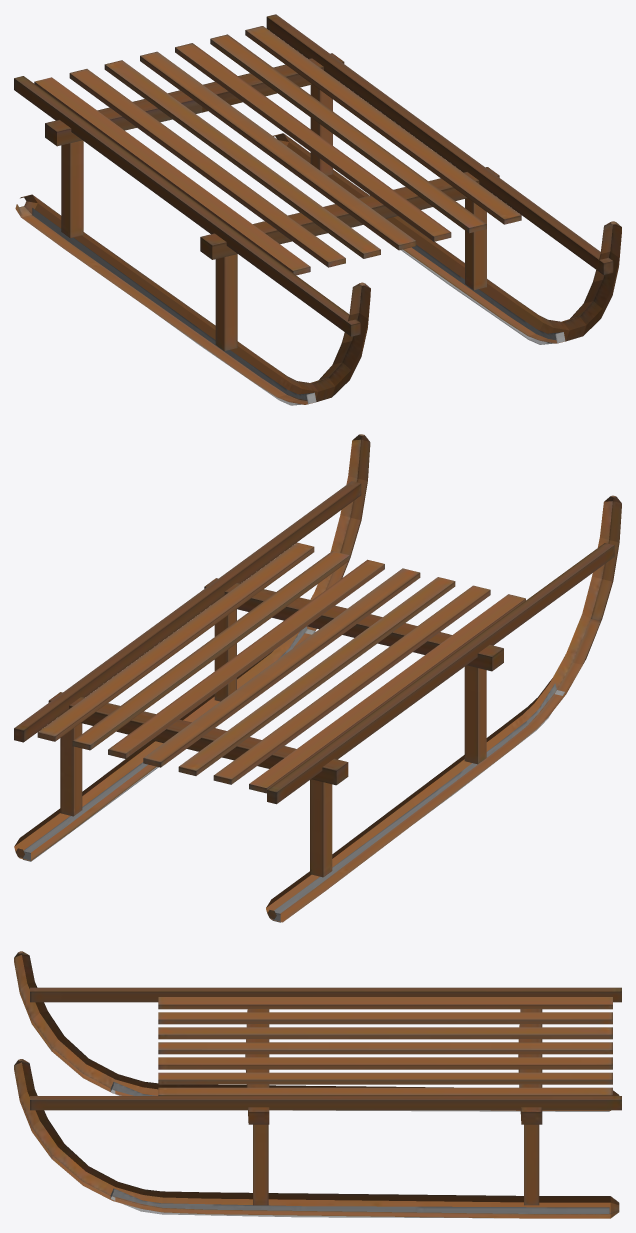
Rendered from sled.glb.
The picture shows the model from 3 angles, top to bottom: view 1: azimuth 30°, elevation 25°; view 2: azimuth 150°, elevation 25°; view 3: azimuth 270°, elevation 25°; orthographic projection. The views are drawn at different scales.
Parts seen in each view (by area): view 1: sled; view 2: sled; view 3: sled.
Part boxes in pixels (box(x1,y1,x2,y2)): sled: box(14, 14, 621, 405); sled: box(14, 434, 621, 922); sled: box(14, 951, 621, 1218).
Size of the model in its own units: 0.5031 by 0.3002 by 1.05.
Materials: 1 (1 with a texture image).
